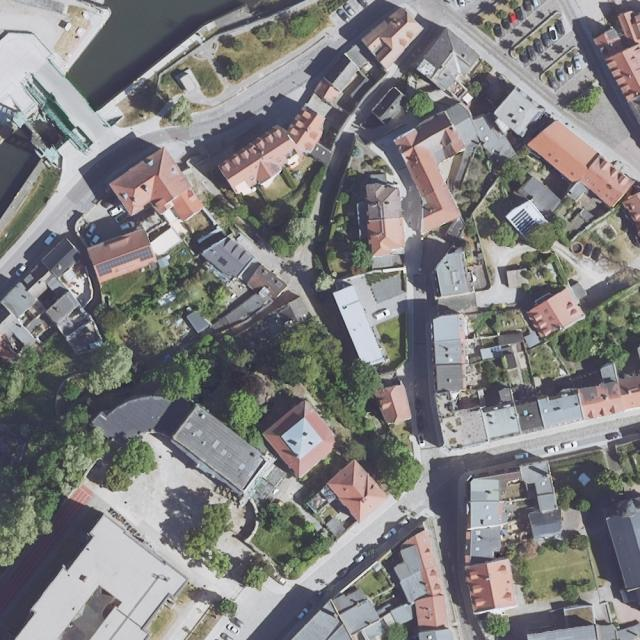PV: (96, 246, 153, 277), (511, 209, 541, 237)
